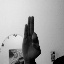f: (21, 15, 42, 61)
